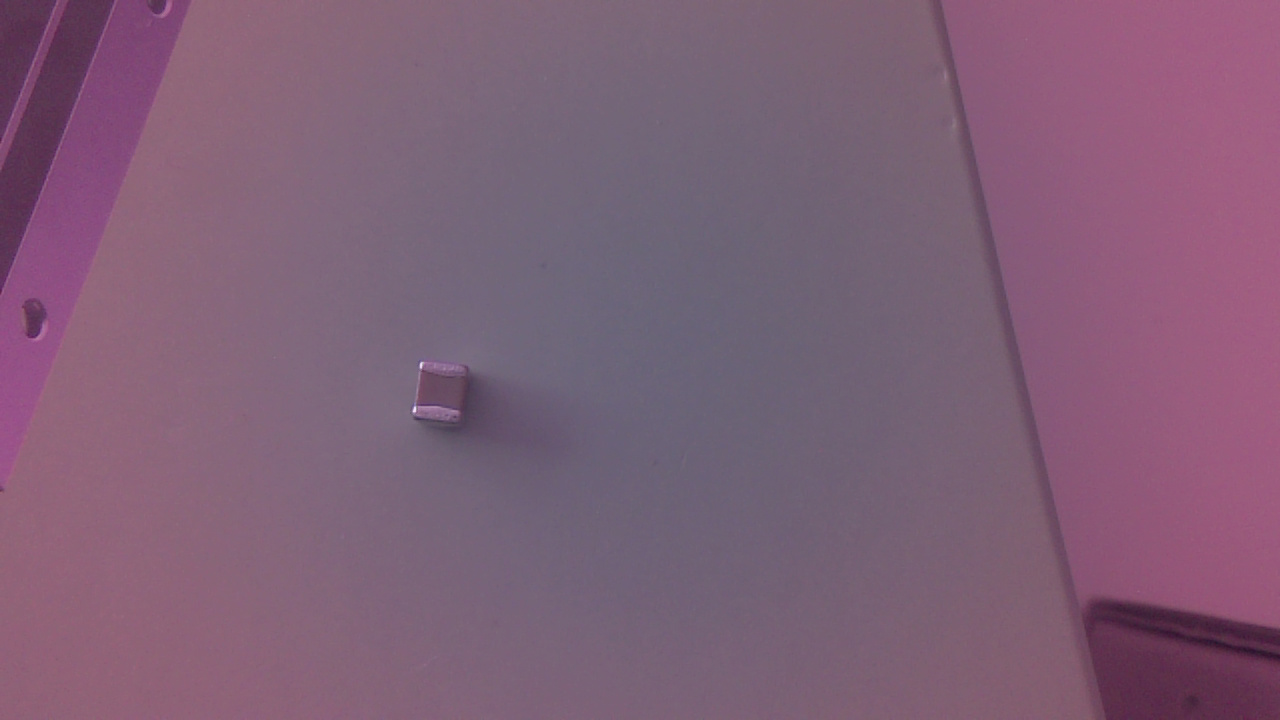Condensator: (413, 361, 485, 436)
